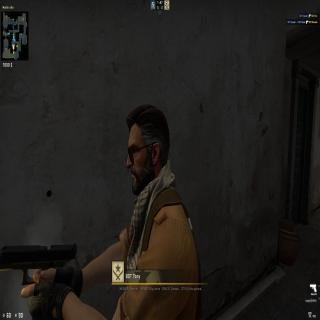T-Head: (123, 101, 171, 196)
